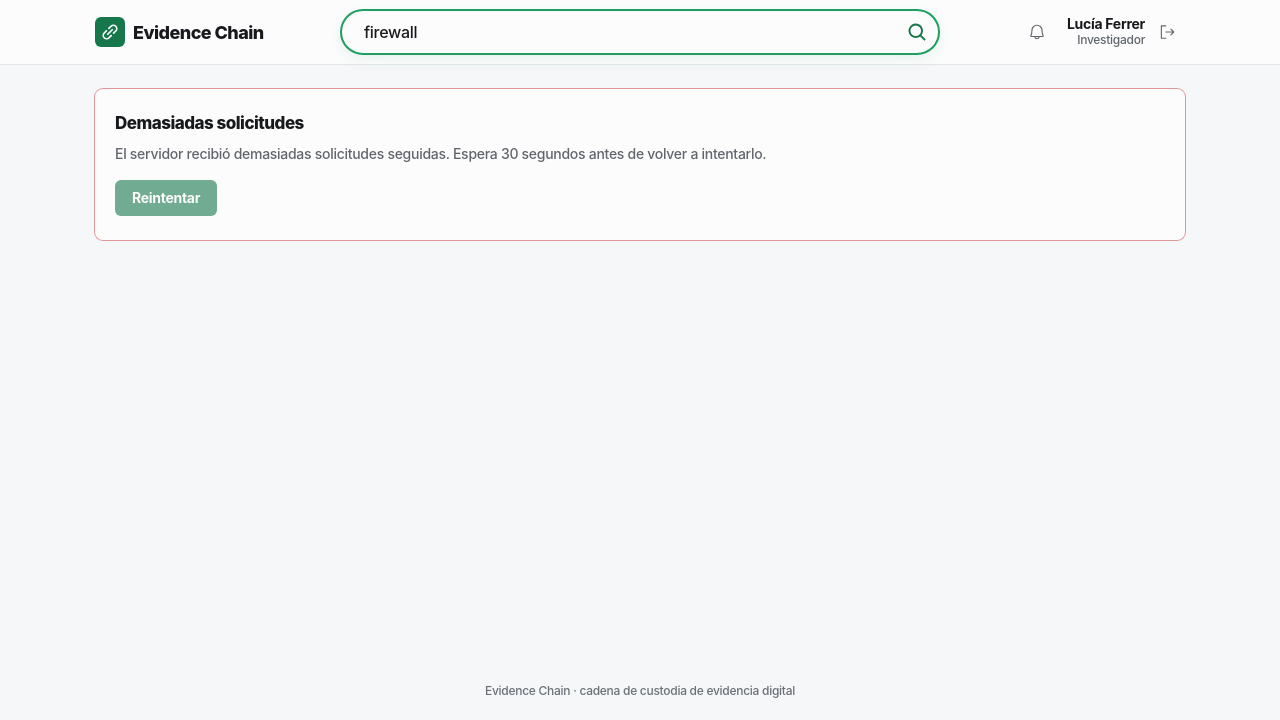
Test: InboxPage › asks to wait after a 429, and offers the retry only once the wait is over
This screenshot has width=1280, height=720.
Expected: the message shows "Demasiadas solicitudes", [115,113,304,133]
Expected: the message shows "El servidor recibió demasiadas solicitudes seguidas. Espera 30 segundos antes de volver a intentarlo.", [115,144,766,162]
Click the button "Reintentar": (166, 198) [115,180,217,216]
Wait 30000 ms
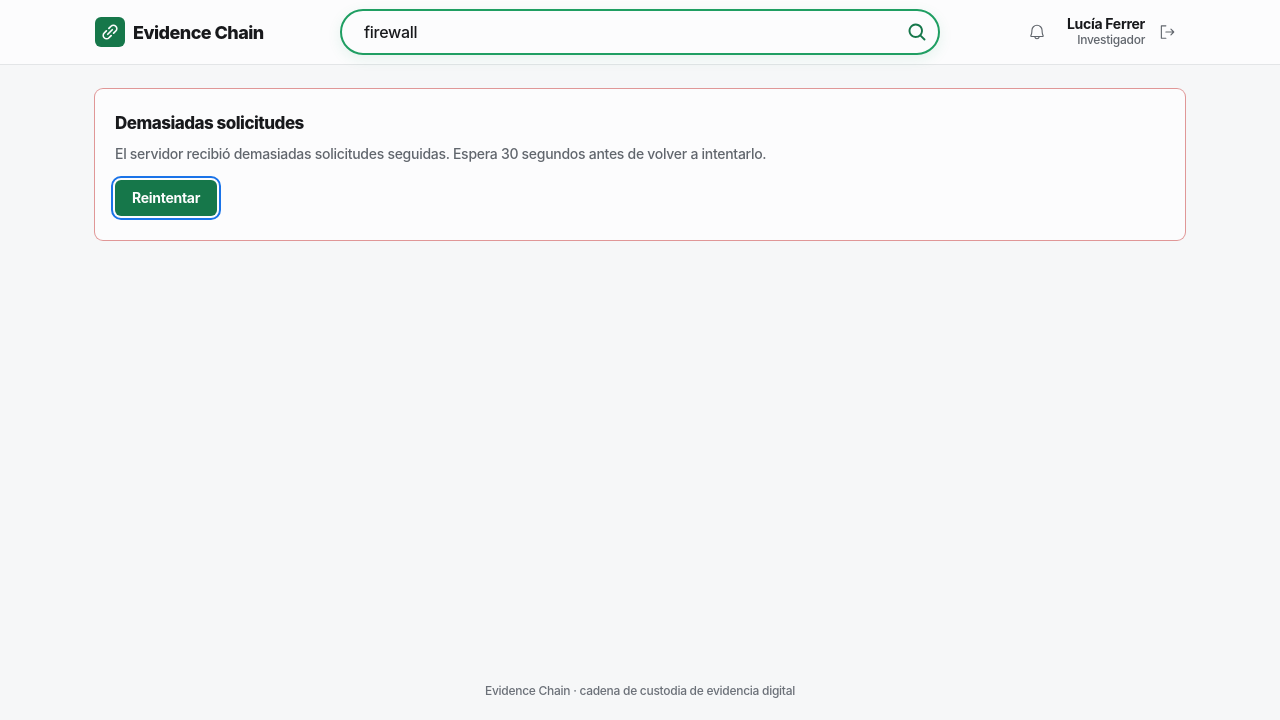
Expected: the search field holds "firewall", [342,11,897,53]
Expected: the button "Reintentar" is enabled
Click the button "Reintentar": (166, 198) [115,180,217,216]
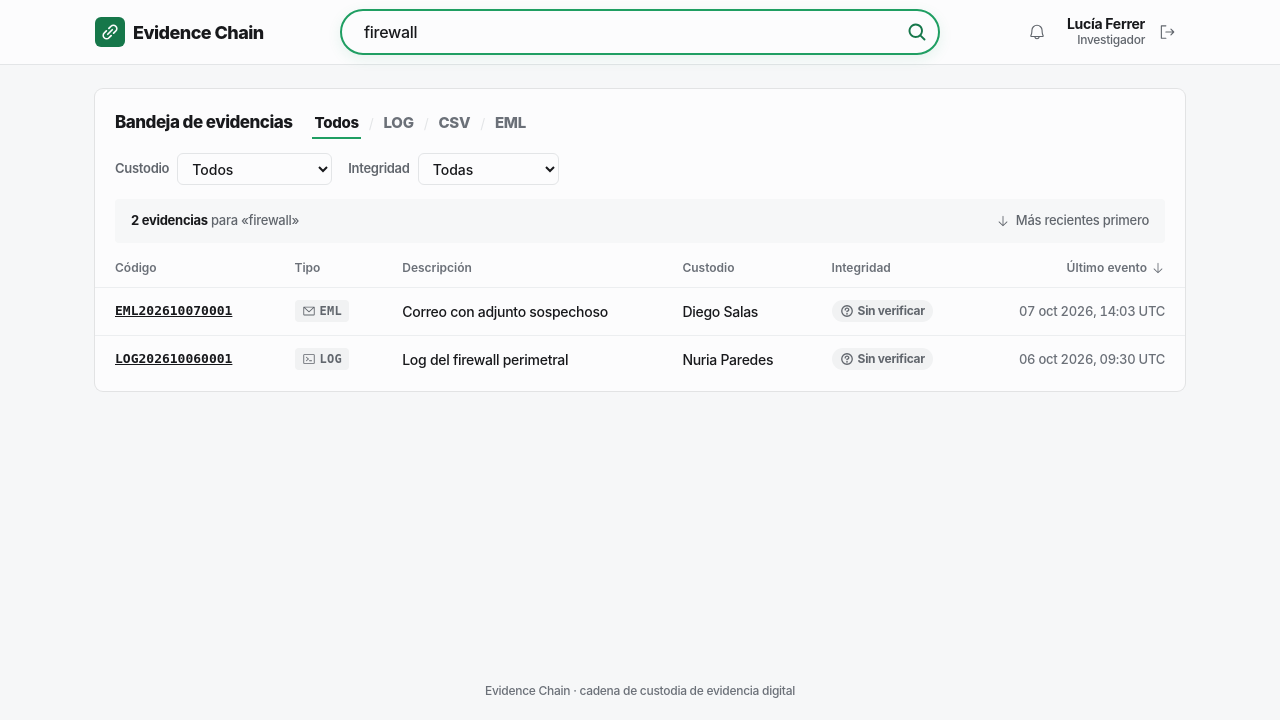
Expected: the table is shown, [95,249,1185,383]
